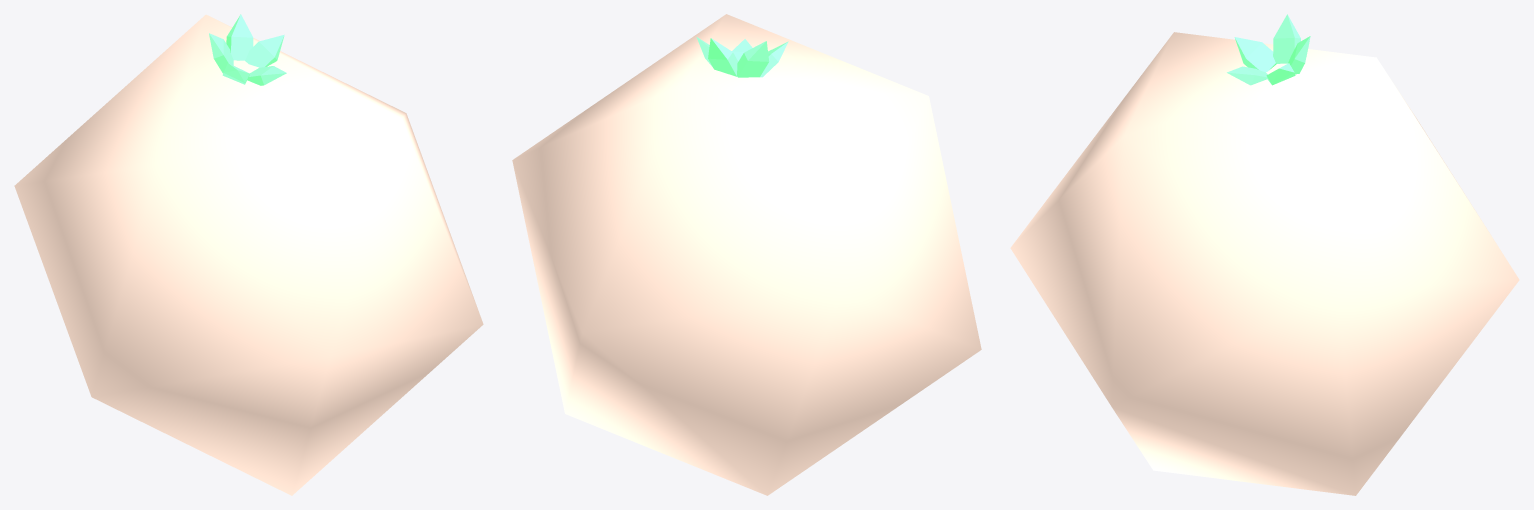
The model's file is rock04.fbx.
3 views of the same model, side by side, from view 1: azimuth 30°, elevation 25°; view 2: azimuth 150°, elevation 25°; view 3: azimuth 270°, elevation 25° (orthographic). The views are drawn at different scales.
Parts seen in each view (by area): view 1: rock02, grass01; view 2: rock02, grass01; view 3: rock02, grass01.
Boxes of the visible parts, x1=… form: rock02: x1=14, y1=14, x2=483, y2=495; grass01: x1=209, y1=14, x2=286, y2=85; rock02: x1=512, y1=14, x2=981, y2=495; grass01: x1=696, y1=37, x2=788, y2=77; rock02: x1=1010, y1=32, x2=1519, y2=495; grass01: x1=1227, y1=14, x2=1310, y2=85.
Size of the model in its own units: 7.89 by 8.28 by 8.56.
